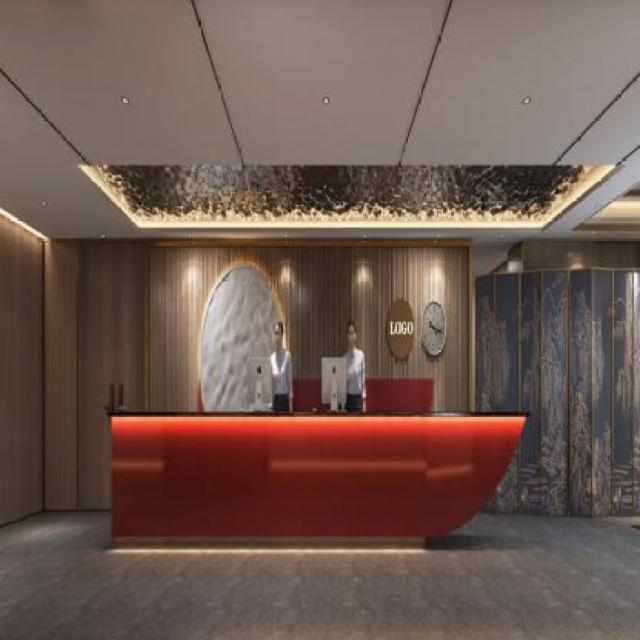frontdesk: (96, 376, 532, 560)
